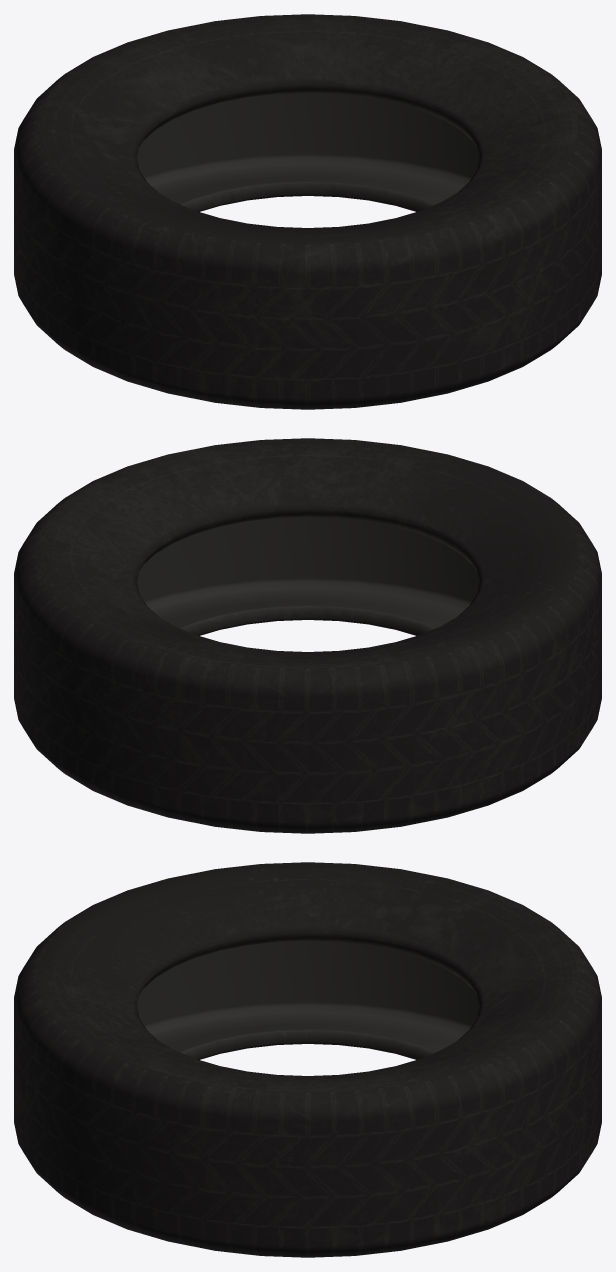
The model's file is SM_tyre.fbx.
3 views of the same model, one above another, from view 1: azimuth 30°, elevation 25°; view 2: azimuth 150°, elevation 25°; view 3: azimuth 270°, elevation 25° (orthographic).
Visible parts, largest first — view 1: SM_tyre_LOD0; view 2: SM_tyre_LOD0; view 3: SM_tyre_LOD0.
Boxes of the visible parts, left/top/right/bottom form: SM_tyre_LOD0: left=14, top=14, right=601, bottom=409; SM_tyre_LOD0: left=14, top=438, right=601, bottom=833; SM_tyre_LOD0: left=14, top=862, right=601, bottom=1257.
Bounding box in the file's own units: 96 × 96 × 30.
